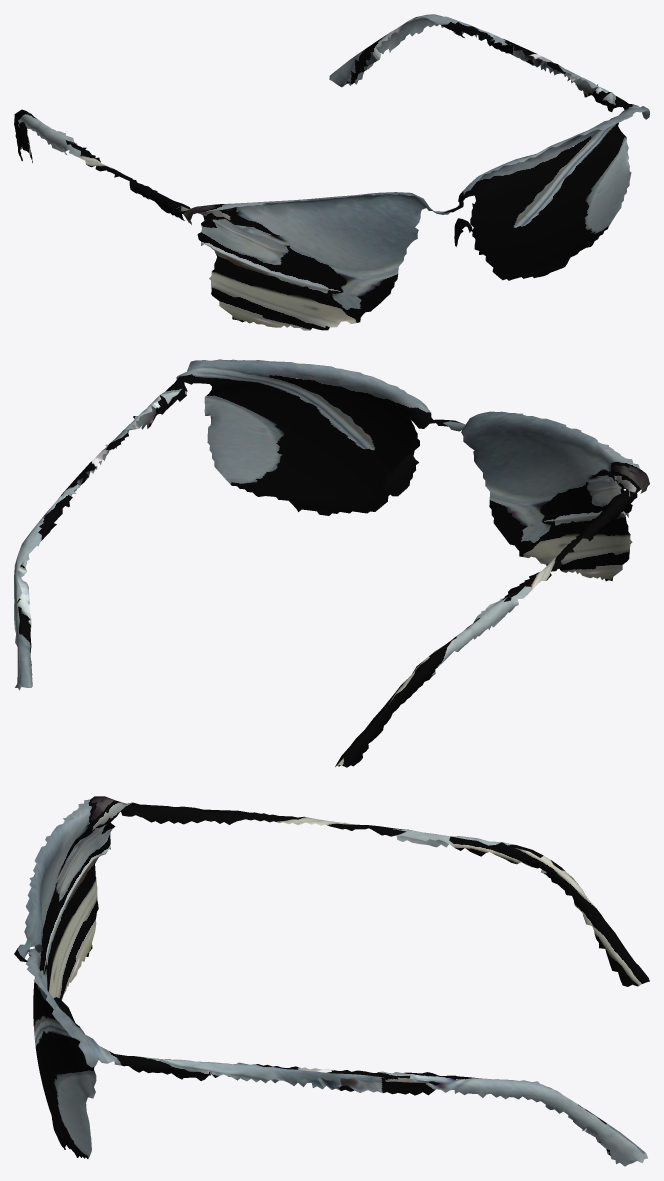
Rendered from scan_align.obj.
3 views of the same model, one above another, from view 1: azimuth 30°, elevation 25°; view 2: azimuth 150°, elevation 25°; view 3: azimuth 270°, elevation 25° (orthographic). The views are drawn at different scales.
Bounding box in the file's own units: 0.1446 × 0.0419 × 0.1494.
